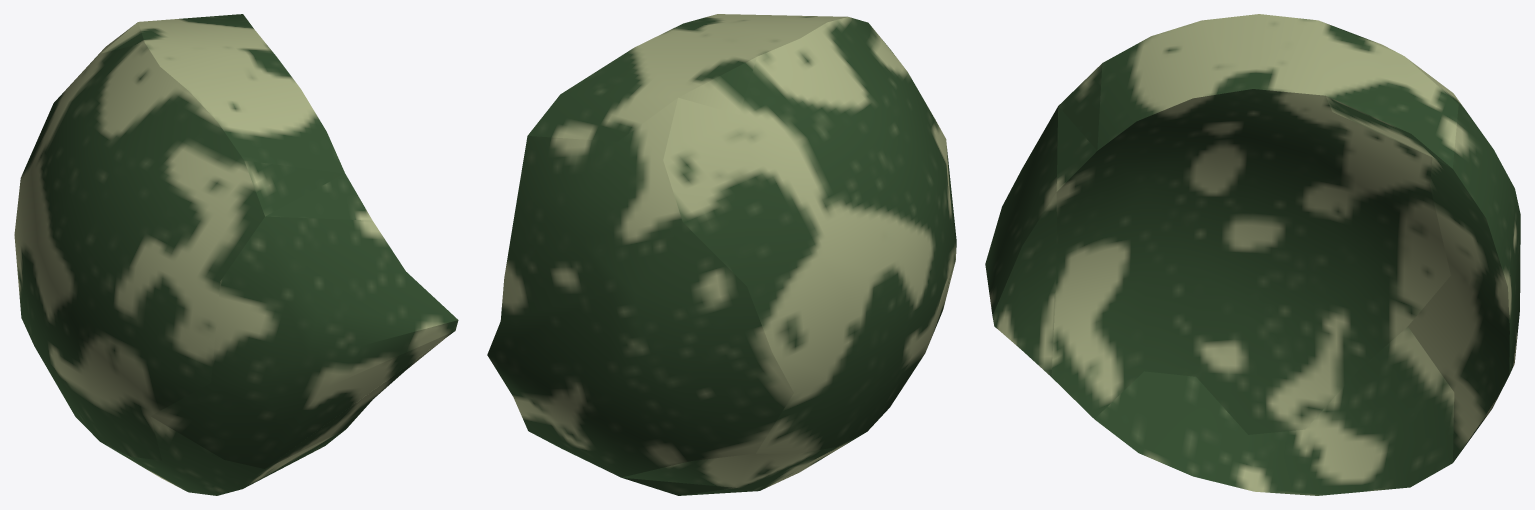
The model's file is link_body_17_composite.obj.
The picture shows the model from 3 angles, left to right: view 1: azimuth 30°, elevation 25°; view 2: azimuth 150°, elevation 25°; view 3: azimuth 270°, elevation 25°; orthographic projection. The views are drawn at different scales.
Parts seen in each view (by area): view 1: link_body_17; view 2: link_body_17; view 3: link_body_17.
Part boxes in pixels (x1,y1,x2,y2): link_body_17: (14, 14, 458, 495); link_body_17: (487, 14, 956, 495); link_body_17: (985, 14, 1520, 495).
Size of the model in its own units: 7.33 by 9.9 by 11.06.
Materials: 1 (1 with a texture image).
